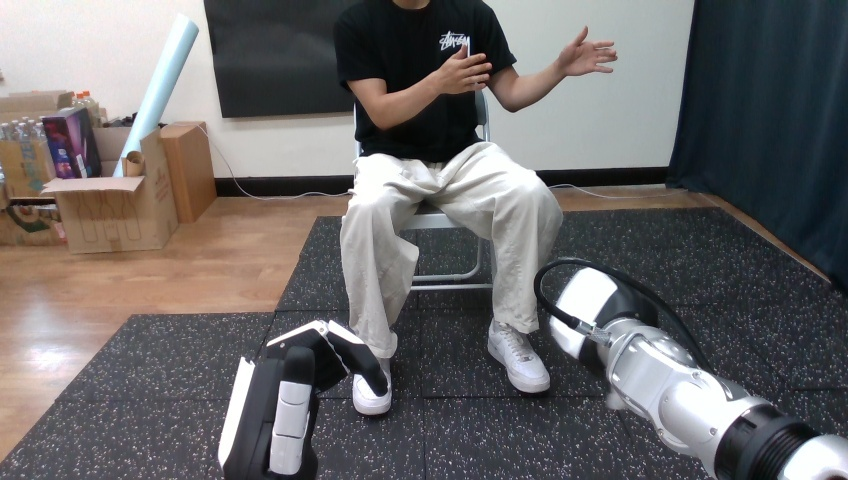left robot hand: (534, 258, 847, 479), (218, 320, 388, 479), (556, 26, 616, 77)
